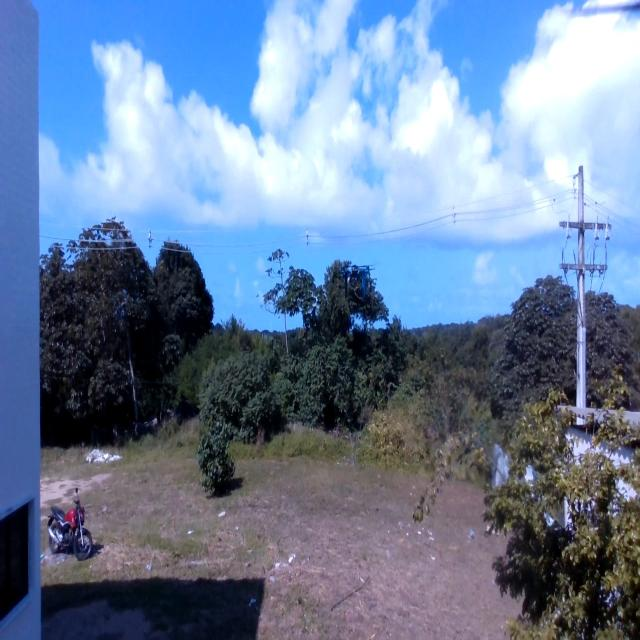-uav-: (337, 242, 384, 317)
